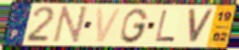2: (25, 6, 57, 44)
G: (119, 7, 151, 44)
L: (153, 9, 177, 43)
N: (51, 5, 90, 46)
V: (186, 7, 216, 45), (94, 7, 124, 44)
